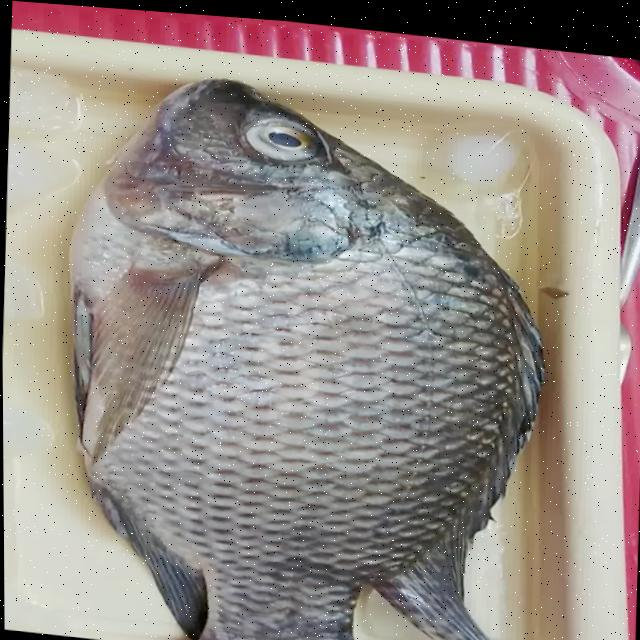Fresh: (52, 163, 557, 640), (210, 90, 344, 186)
